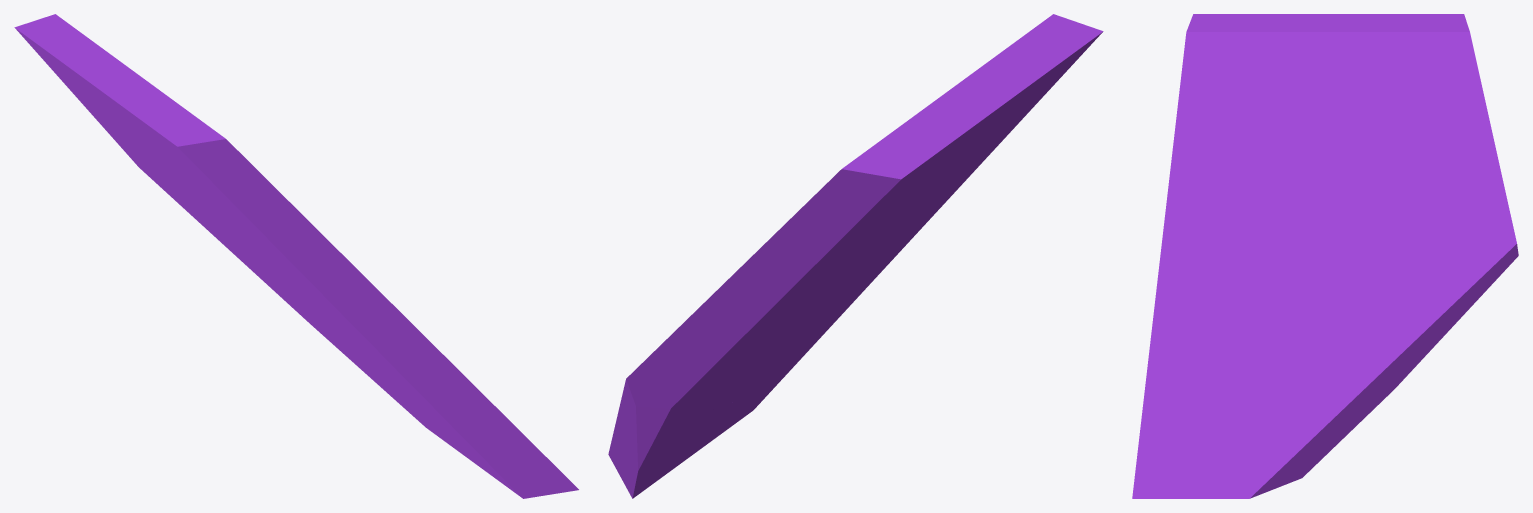
The model's file is Window_120_3_chunks.fbx.
3 renders of one model, left to right at view 1: azimuth 30°, elevation 25°; view 2: azimuth 150°, elevation 25°; view 3: azimuth 270°, elevation 25°, orthographic. The views are drawn at different scales.
Parts seen in each view (by area): view 1: Window_120_3_0, Window_120_3_4, Window_120_3_8, Window_120_3_2, Window_120_3_1, Window_120_3_6, Window_120_3_9, Window_120_3_3, Window_120_3_7; view 2: Window_120_3_6, Window_120_3_8, Window_120_3_1, Window_120_3_0, Window_120_3_9, Window_120_3_4, Window_120_3_2, Window_120_3_3, Window_120_3_7; view 3: Window_120_3_8, Window_120_3_4, Window_120_3_1, Window_120_3_9, Window_120_3_7, Window_120_3_2, Window_120_3_3, Window_120_3_0, Window_120_3_5, Window_120_3_6.
Boxes of the visible parts, left/top/right/bottom form: Window_120_3_0: left=146, top=123, right=343, bottom=315; Window_120_3_4: left=376, top=362, right=578, bottom=498; Window_120_3_8: left=33, top=41, right=218, bottom=201; Window_120_3_2: left=282, top=248, right=435, bottom=392; Window_120_3_1: left=124, top=151, right=412, bottom=415; Window_120_3_6: left=14, top=26, right=188, bottom=202; Window_120_3_9: left=18, top=14, right=101, bottom=54; Window_120_3_3: left=291, top=291, right=428, bottom=429; Window_120_3_7: left=176, top=178, right=237, bottom=241; Window_120_3_6: left=644, top=172, right=912, bottom=380; Window_120_3_8: left=849, top=21, right=1064, bottom=257; Window_120_3_1: left=614, top=335, right=775, bottom=495; Window_120_3_0: left=770, top=14, right=1103, bottom=347; Window_120_3_9: left=753, top=127, right=923, bottom=254; Window_120_3_4: left=608, top=297, right=857, bottom=494; Window_120_3_2: left=753, top=215, right=933, bottom=381; Window_120_3_3: left=611, top=358, right=761, bottom=498; Window_120_3_7: left=744, top=243, right=871, bottom=353; Window_120_3_8: left=1198, top=14, right=1432, bottom=168; Window_120_3_4: left=1132, top=329, right=1296, bottom=498; Window_120_3_1: left=1312, top=226, right=1518, bottom=468; Window_120_3_9: left=1358, top=14, right=1489, bottom=183; Window_120_3_7: left=1263, top=149, right=1460, bottom=268; Window_120_3_2: left=1158, top=177, right=1338, bottom=282; Window_120_3_3: left=1263, top=260, right=1349, bottom=479; Window_120_3_0: left=1169, top=14, right=1283, bottom=213; Window_120_3_5: left=1152, top=278, right=1316, bottom=370; Window_120_3_6: left=1414, top=14, right=1512, bottom=239.
Size of the model in its own units: 720 by 763 by 794.
